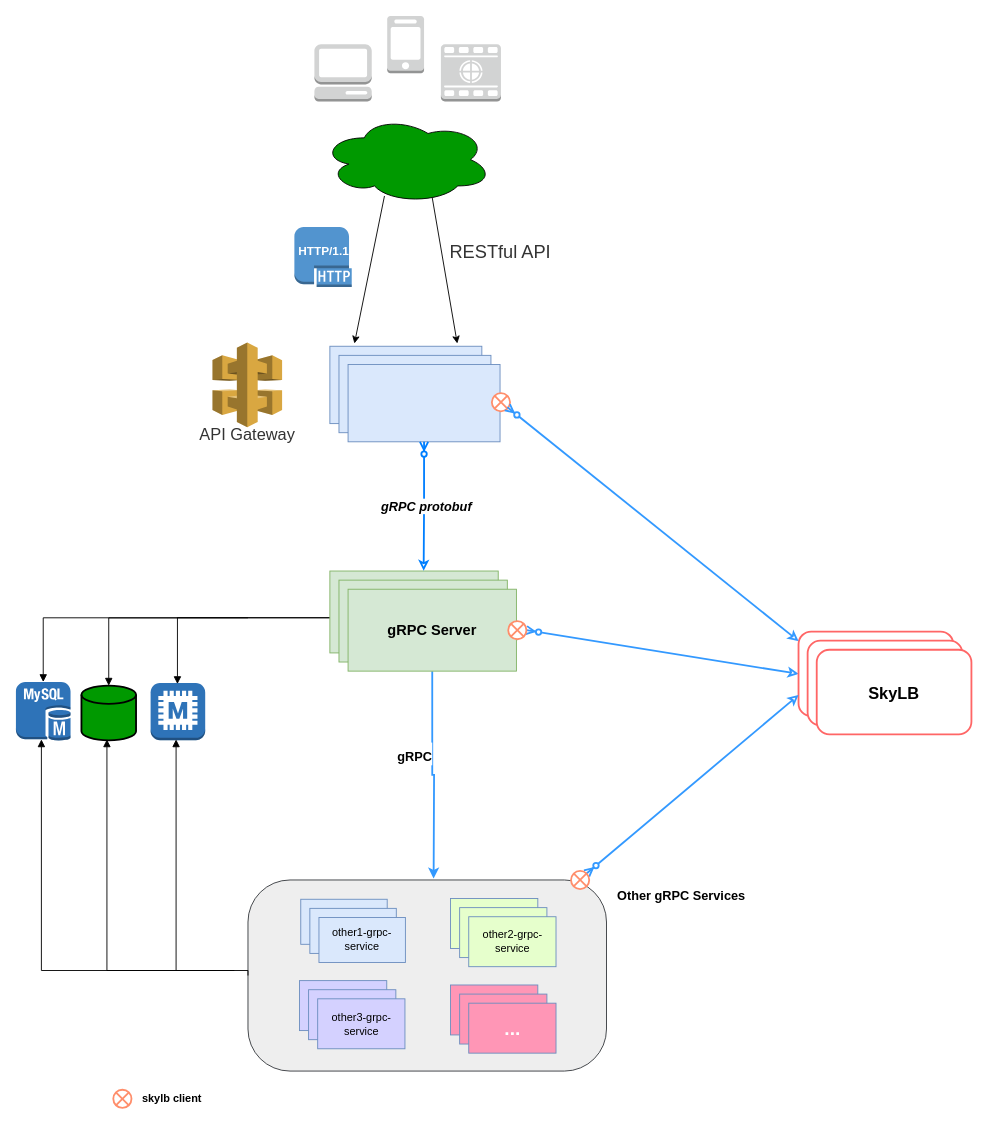
The diagram is 988 pixels wide and 1125 high, and some of its shapes have lost their labels. The shapes that lost their labels are listed below. From the top down, each one's centre as x and y in pixels, then its label:
the point at 406,159: Nginx
the point at 423,403: Ease Gateway
the point at 108,712: MongoDB
